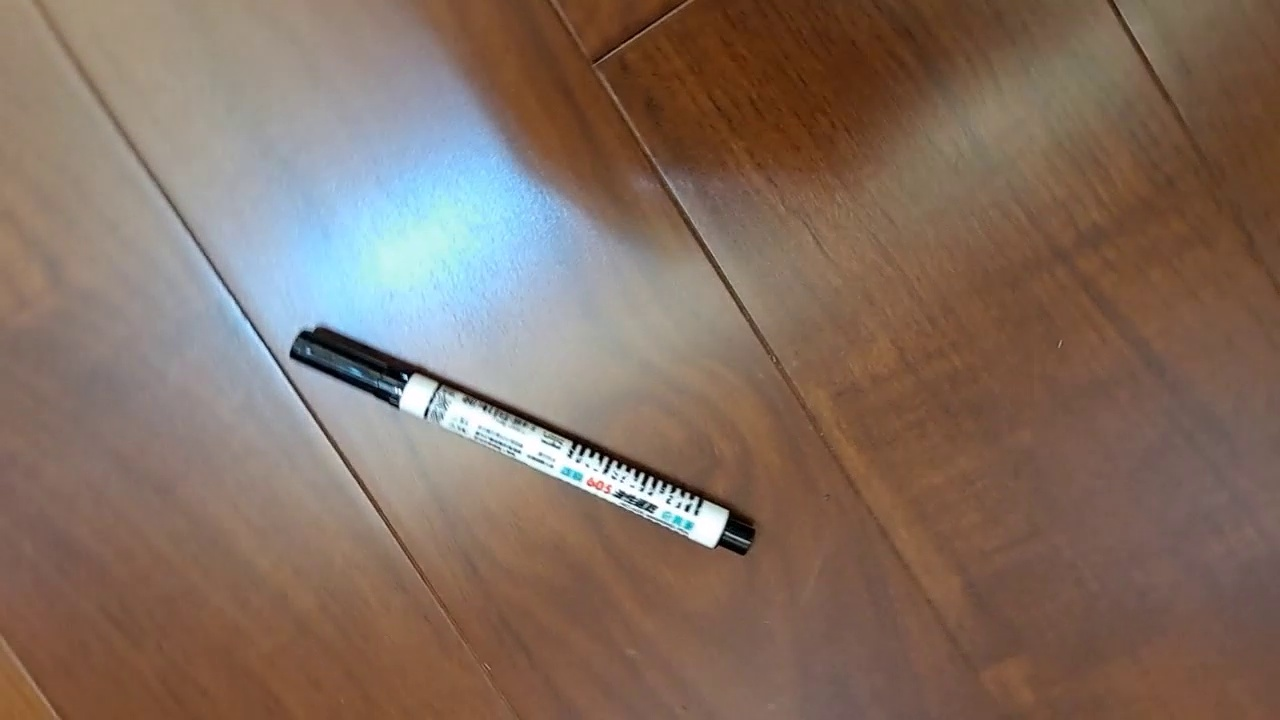pen: (288, 324, 758, 556)
